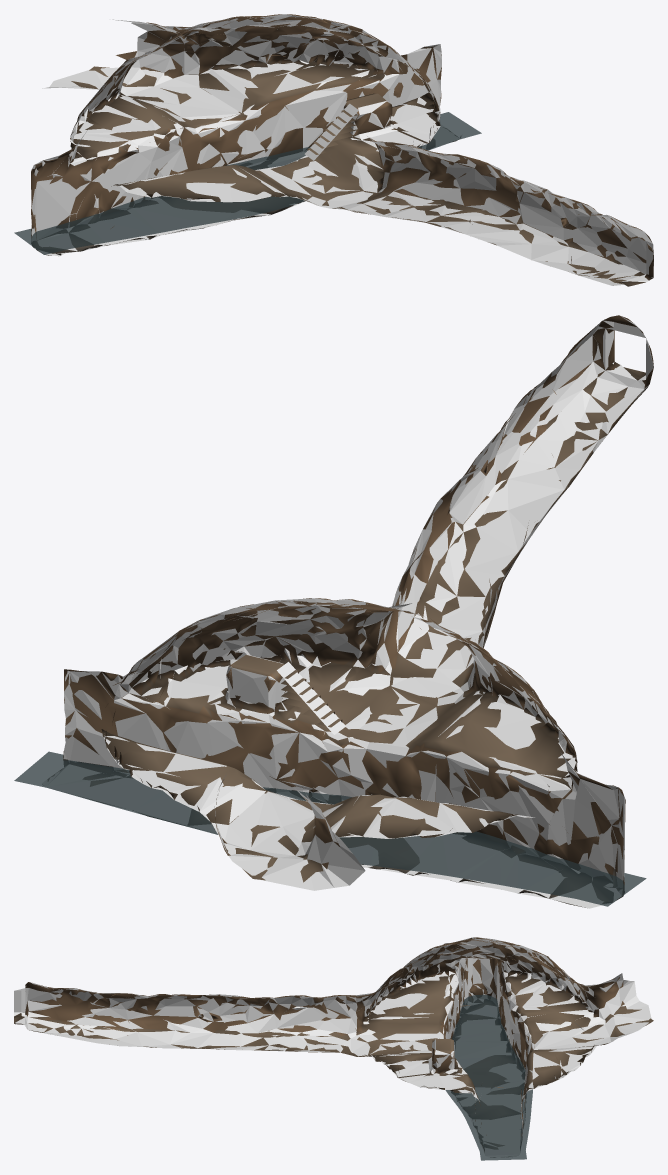
The picture shows the model from 3 angles, top to bottom: view 1: azimuth 30°, elevation 25°; view 2: azimuth 150°, elevation 25°; view 3: azimuth 270°, elevation 25°; orthographic projection. The views are drawn at different scales.
Visible parts, largest first — view 1: cave_A_col, cave_A, cave_water; view 2: cave_A_col, cave_A, cave_water; view 3: cave_A_col, cave_A, cave_water.
Boxes of the visible parts, bbox=[...] form: cave_A_col: bbox=[31, 14, 653, 285]; cave_A: bbox=[31, 14, 653, 286]; cave_water: bbox=[14, 112, 481, 254]; cave_A_col: bbox=[42, 316, 653, 908]; cave_A: bbox=[48, 315, 653, 907]; cave_water: bbox=[14, 751, 646, 906]; cave_A_col: bbox=[14, 937, 651, 1157]; cave_A: bbox=[14, 937, 653, 1157]; cave_water: bbox=[445, 994, 532, 1160].
Bounding box in the file's own units: 36.13 × 12.91 × 58.17.
